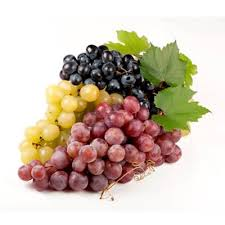Black grapes: (82, 49, 145, 92)
Red Grapes: (89, 120, 166, 163)
